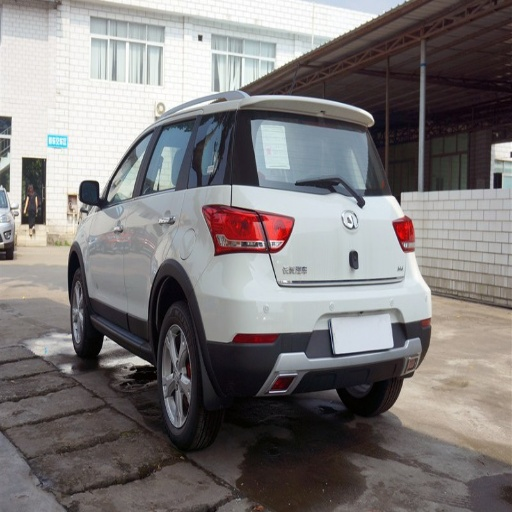back_bumper: (193, 249, 432, 397)
back_glass: (246, 113, 387, 195)
back_left_door: (128, 117, 190, 338)
trunk: (245, 190, 402, 286)
